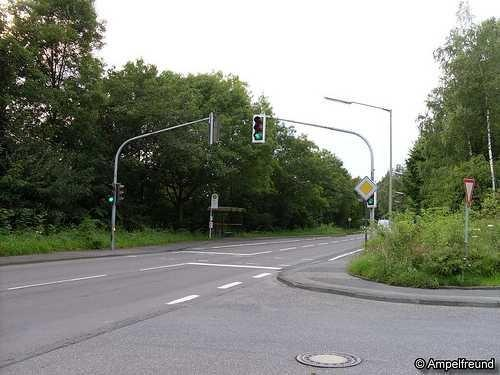green: (254, 112, 265, 144), (367, 196, 376, 206), (254, 134, 263, 142)
